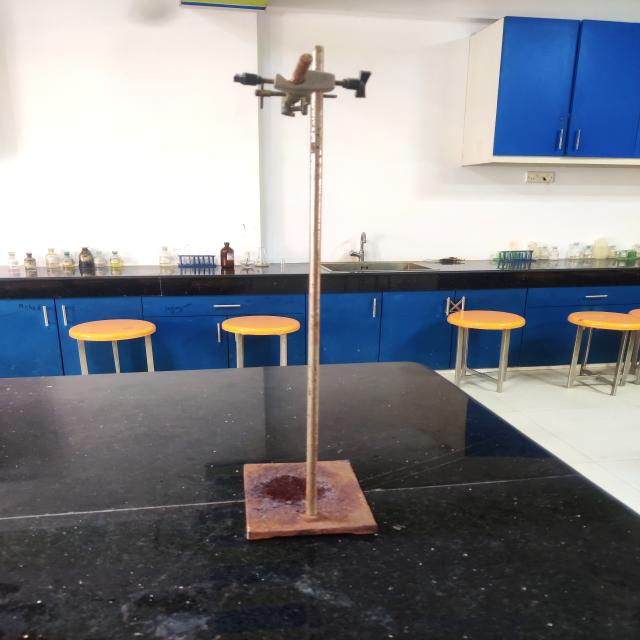Burette_Stands: (224, 30, 383, 574)
